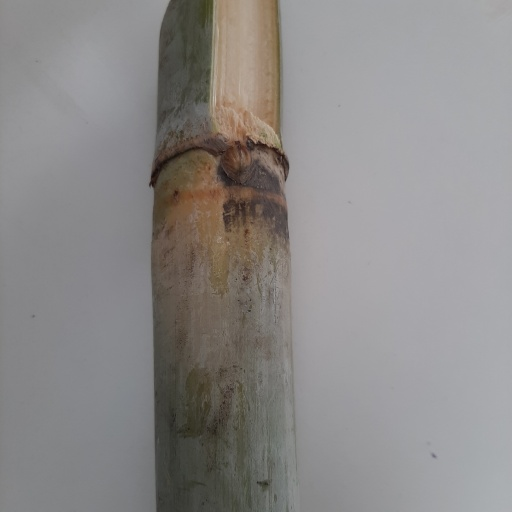Bud: (222, 143, 252, 184)
